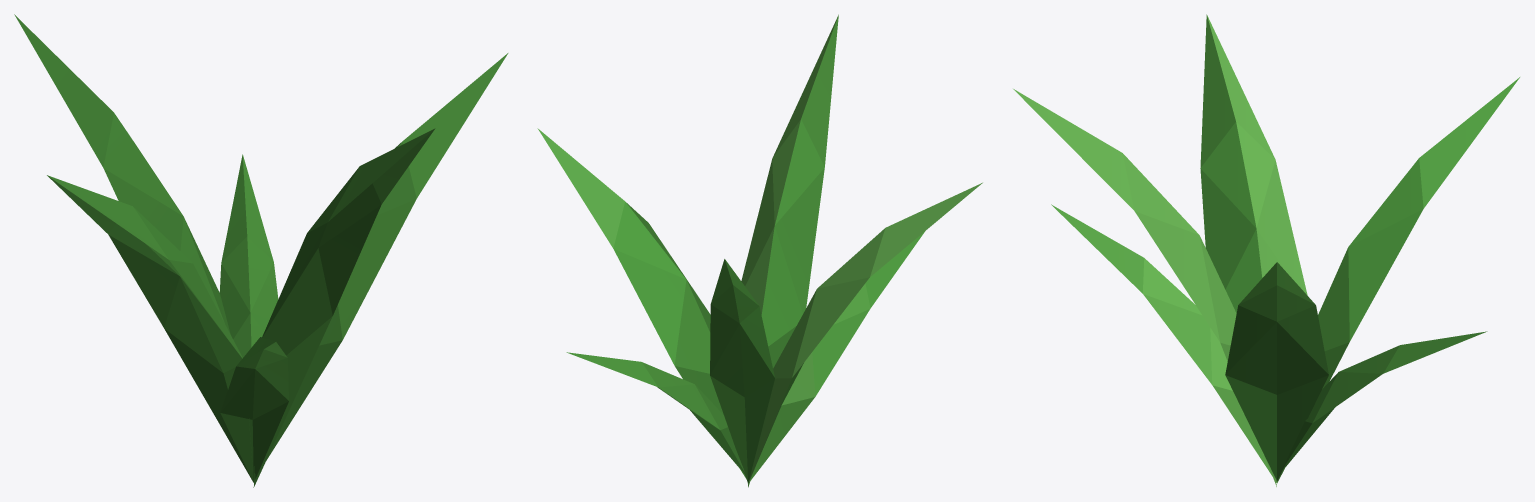
File: Svc_Flax.glb
3 renders of one model, left to right at view 1: azimuth 30°, elevation 25°; view 2: azimuth 150°, elevation 25°; view 3: azimuth 270°, elevation 25°, orthographic. The views are drawn at different scales.
Visible parts, largest first — view 1: Prop_Grass_Clump_4_Merged; view 2: Prop_Grass_Clump_4_Merged; view 3: Prop_Grass_Clump_4_Merged.
Part boxes in pixels (box(x1,y1,x2,y2)): Prop_Grass_Clump_4_Merged: box(14, 14, 508, 487); Prop_Grass_Clump_4_Merged: box(537, 14, 982, 487); Prop_Grass_Clump_4_Merged: box(1013, 14, 1519, 486).
Bounding box in the file's own units: 0.5868 × 0.512 × 0.5676.
